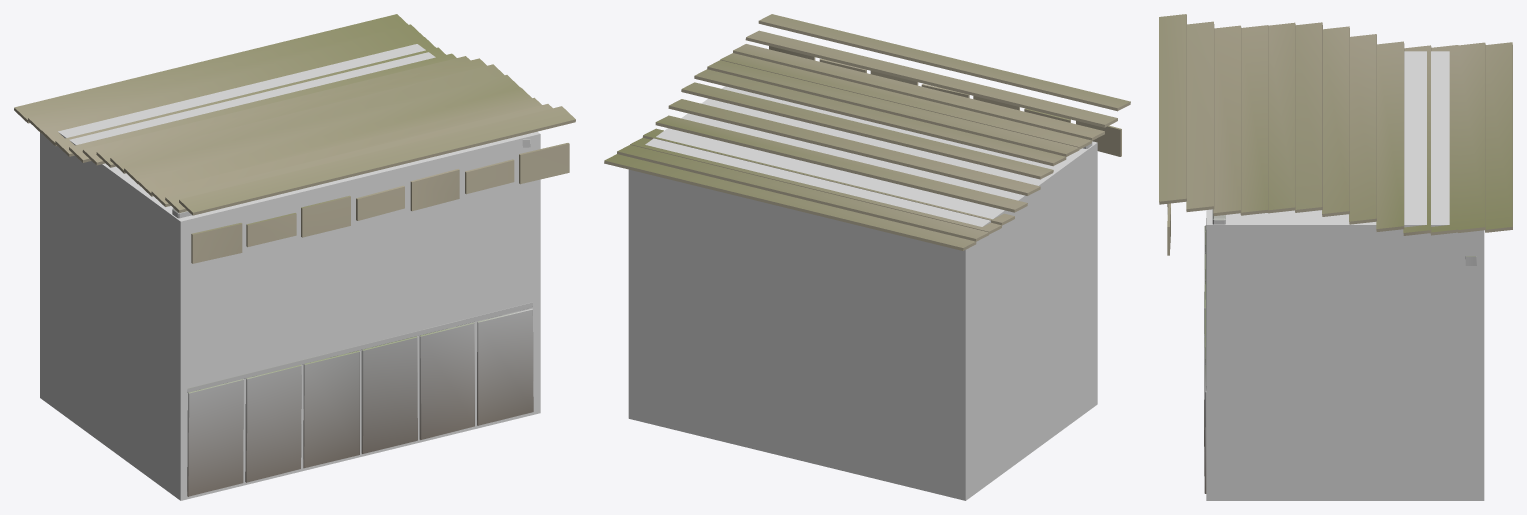
The model's file is prop_market_stall_c.glb.
3 views of the same model, side by side, from view 1: azimuth 30°, elevation 25°; view 2: azimuth 150°, elevation 25°; view 3: azimuth 270°, elevation 25° (orthographic). The views are drawn at different scales.
Visible parts, largest first — view 1: col_stall.002, cloth_awning.002, stall_frame.002; view 2: col_stall.002, cloth_awning.002; view 3: col_stall.002, cloth_awning.002, stall_frame.002.
Boxes of the visible parts, left/top/right/bottom form: col_stall.002: left=40, top=44, right=540, bottom=500; cloth_awning.002: left=14, top=14, right=575, bottom=263; stall_frame.002: left=172, top=139, right=533, bottom=496; col_stall.002: left=628, top=86, right=1097, bottom=500; cloth_awning.002: left=604, top=14, right=1130, bottom=250; col_stall.002: left=1206, top=51, right=1484, bottom=500; cloth_awning.002: left=1159, top=14, right=1512, bottom=255; stall_frame.002: left=1204, top=209, right=1476, bottom=493.
Size of the model in its own units: 3.3 by 2.58 by 2.67.
